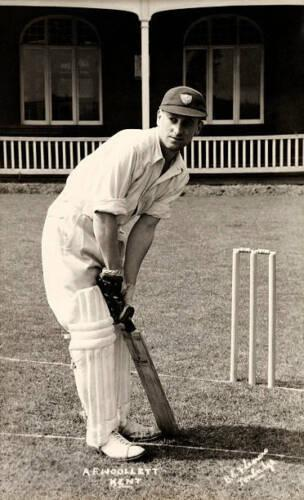batsman: (39, 85, 207, 460)
